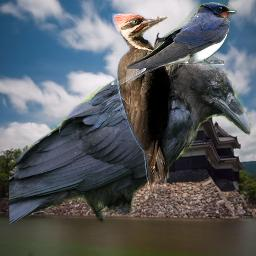Crow: (9, 58, 253, 227)
Swallow: (112, 2, 237, 89)
Woodpecker: (112, 13, 193, 195)
